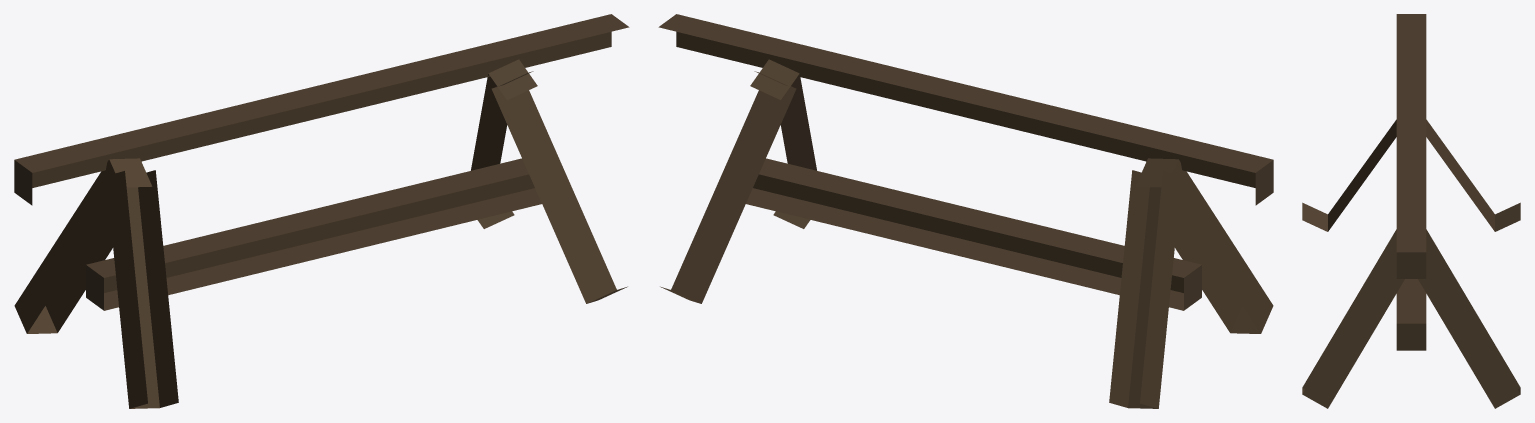
The model's file is boat_trestle.glb.
The picture shows the model from 3 angles, left to right: view 1: azimuth 30°, elevation 25°; view 2: azimuth 150°, elevation 25°; view 3: azimuth 270°, elevation 25°; orthographic projection. The views are drawn at different scales.
Parts seen in each view (by area): view 1: boat_trestle; view 2: boat_trestle; view 3: boat_trestle.
Part boxes in pixels (<box>): boat_trestle: <box>14,14,629,408</box>; boat_trestle: <box>658,14,1273,408</box>; boat_trestle: <box>1302,14,1520,408</box>.
Size of the model in its own units: 1.9 by 0.6847 by 0.7365.
